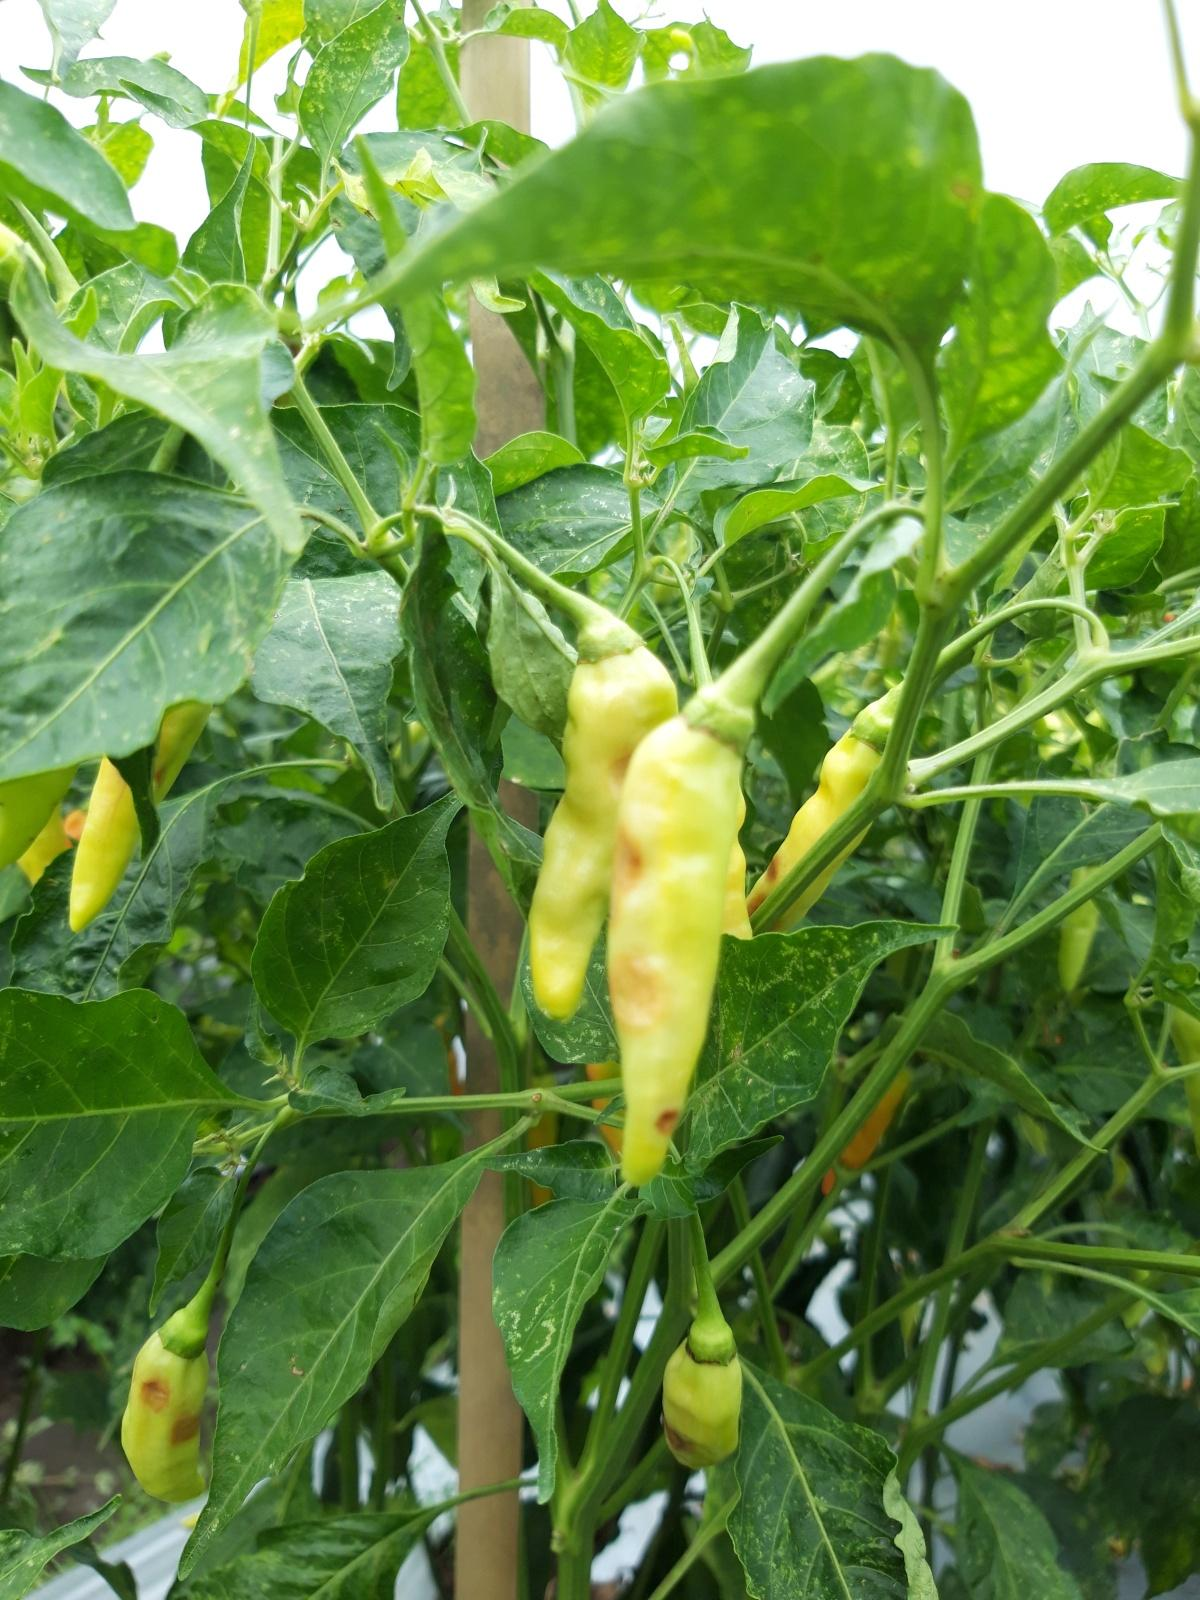lalat_buah: (605, 688, 753, 1188), (528, 620, 677, 1023), (747, 700, 894, 936), (121, 1309, 209, 1503), (663, 1327, 744, 1471)
